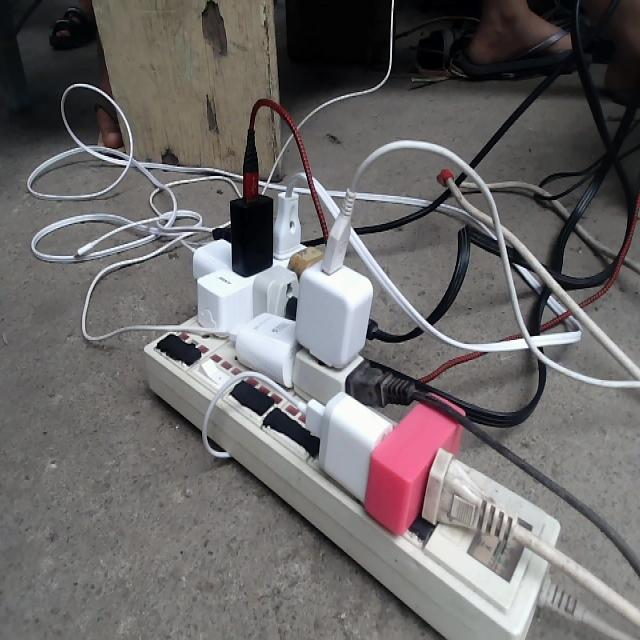-: (142, 97, 591, 639)
